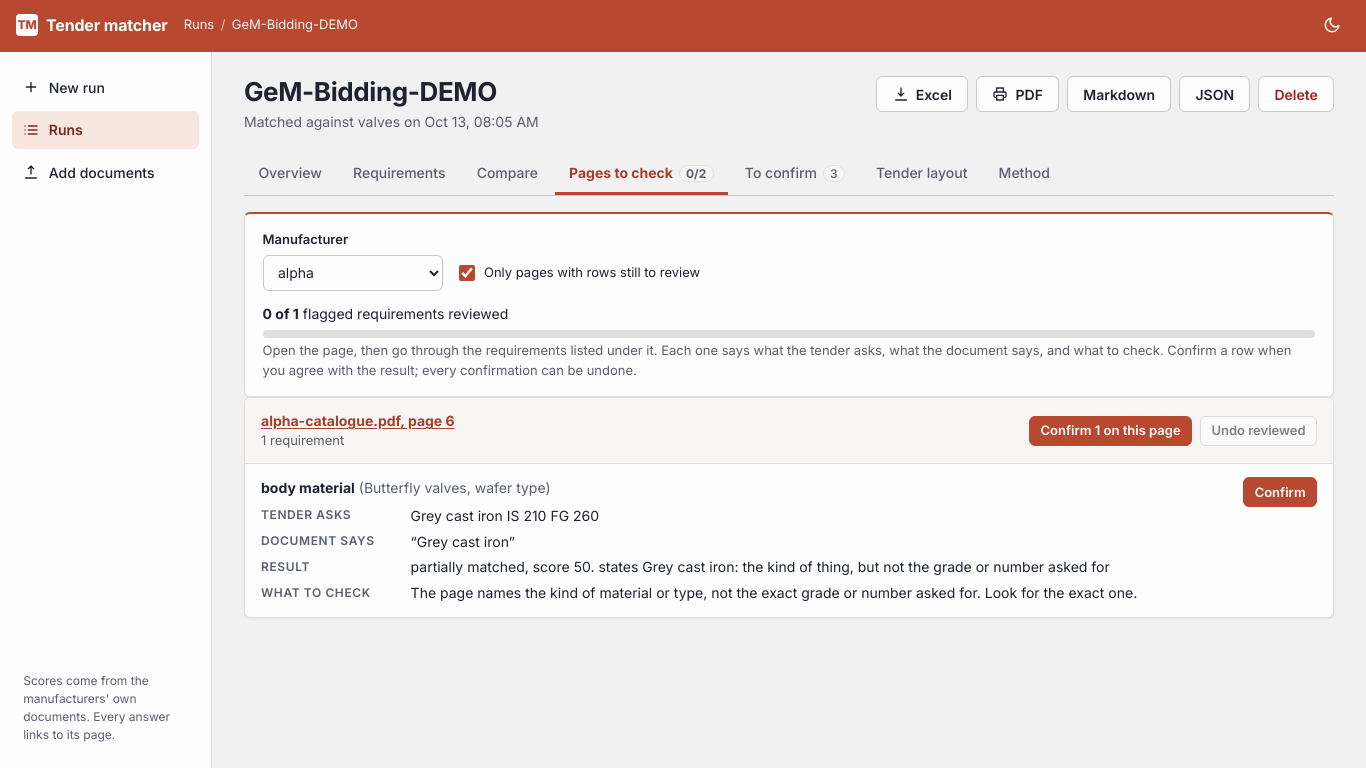
the report › lets a mistaken confirmation be undone: from the message, from the page, and per row
Click the button "Confirm 1 on this page": [1111, 430] box x1=1029 y1=416 x2=1192 y2=446
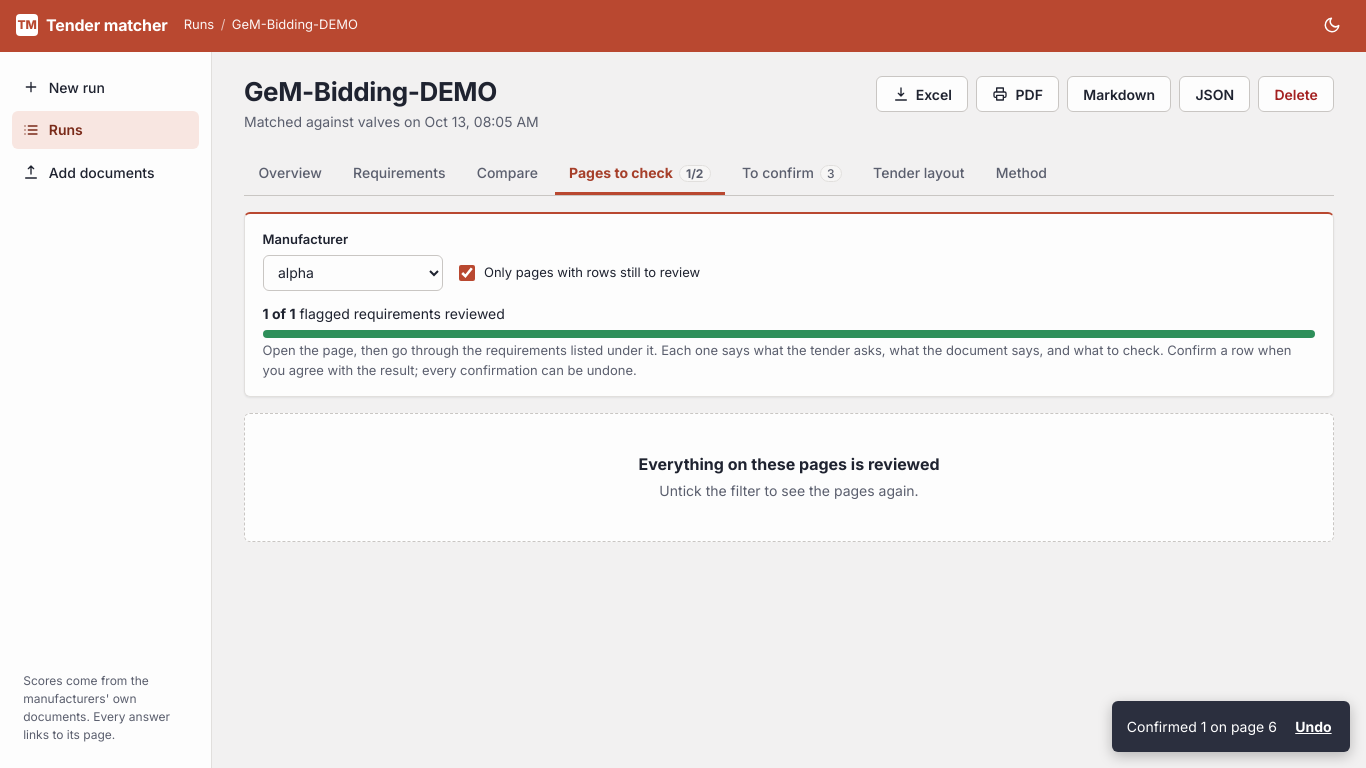
Check: the text "Confirmed 1 on page 6 Undo" is shown, box x1=1112 y1=701 x2=1350 y2=752
Click the button "Undo": [1313, 726] box x1=1291 y1=710 x2=1336 y2=742
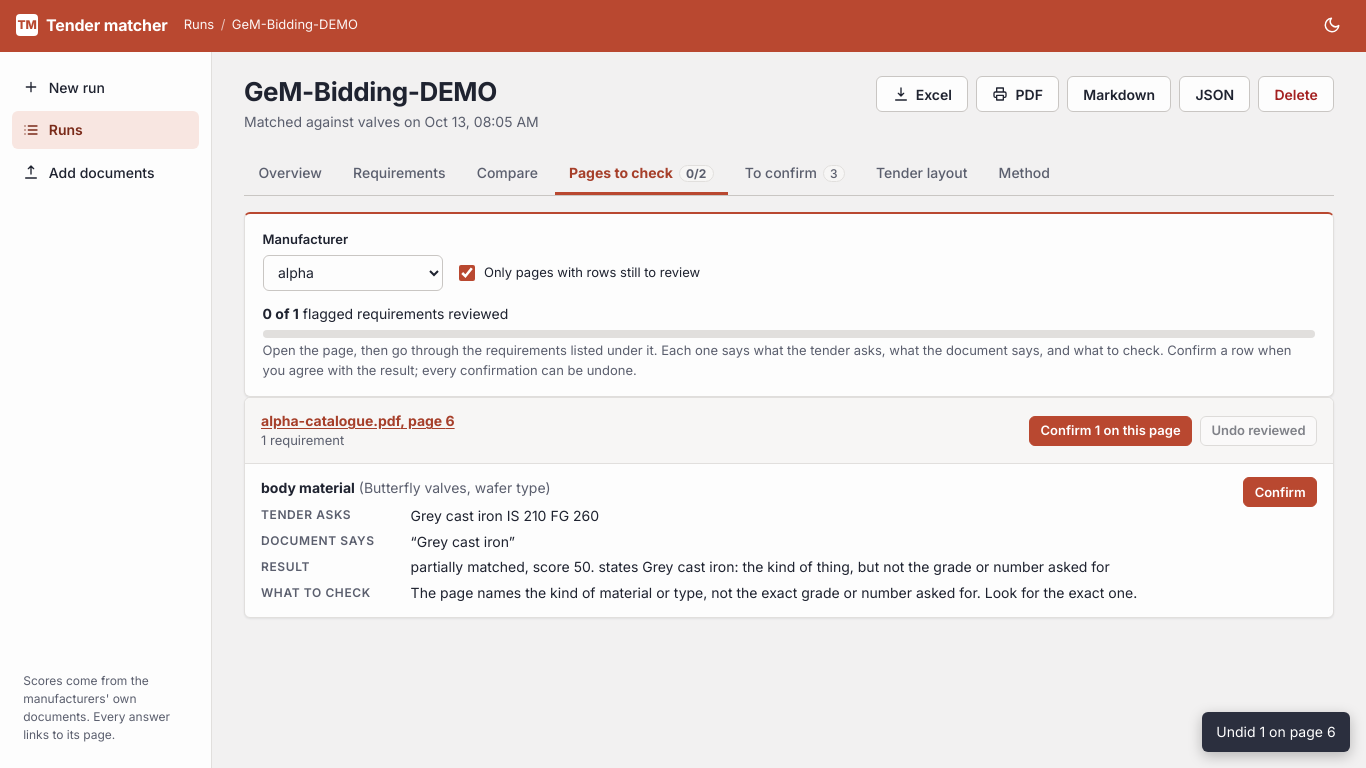
Check: the text "0 of 1" is shown, box x1=263 y1=305 x2=299 y2=322
Click the button "Confirm": [1280, 492] box x1=1243 y1=477 x2=1317 y2=507
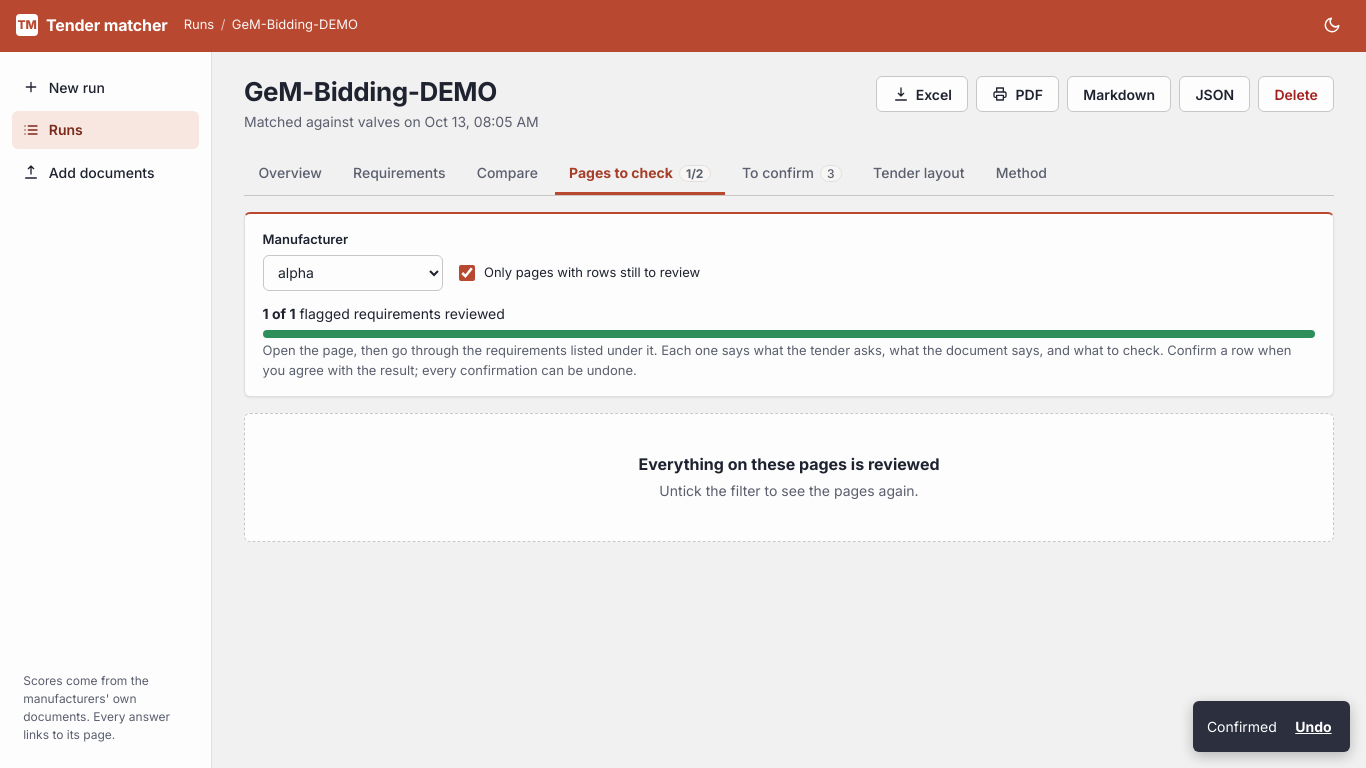
Check: the text "1 of 1" is shown, box x1=263 y1=305 x2=296 y2=322
Click the checkbox labelled "Only pages with rows still to review": [467, 273] box x1=459 y1=265 x2=475 y2=281
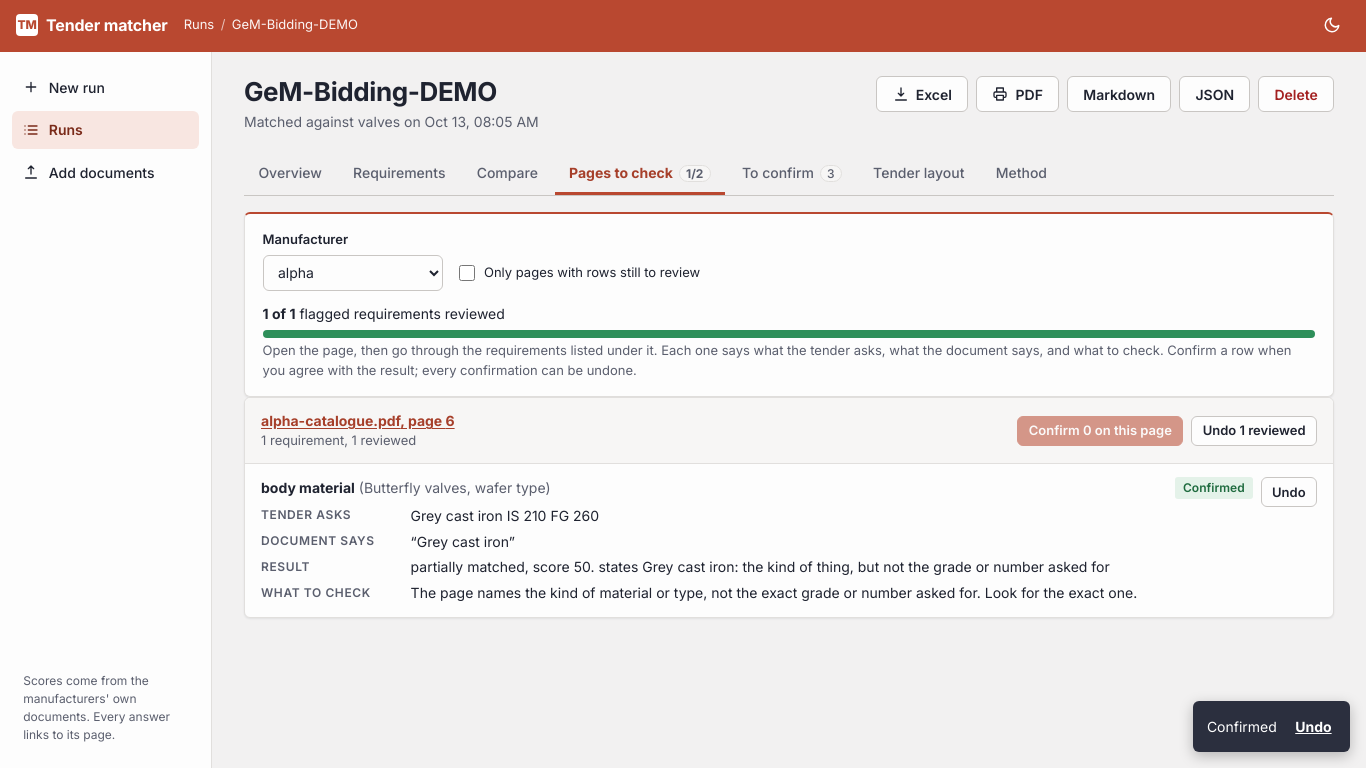
Click the button "Undo 1 reviewed": [1254, 430] box x1=1191 y1=416 x2=1317 y2=446
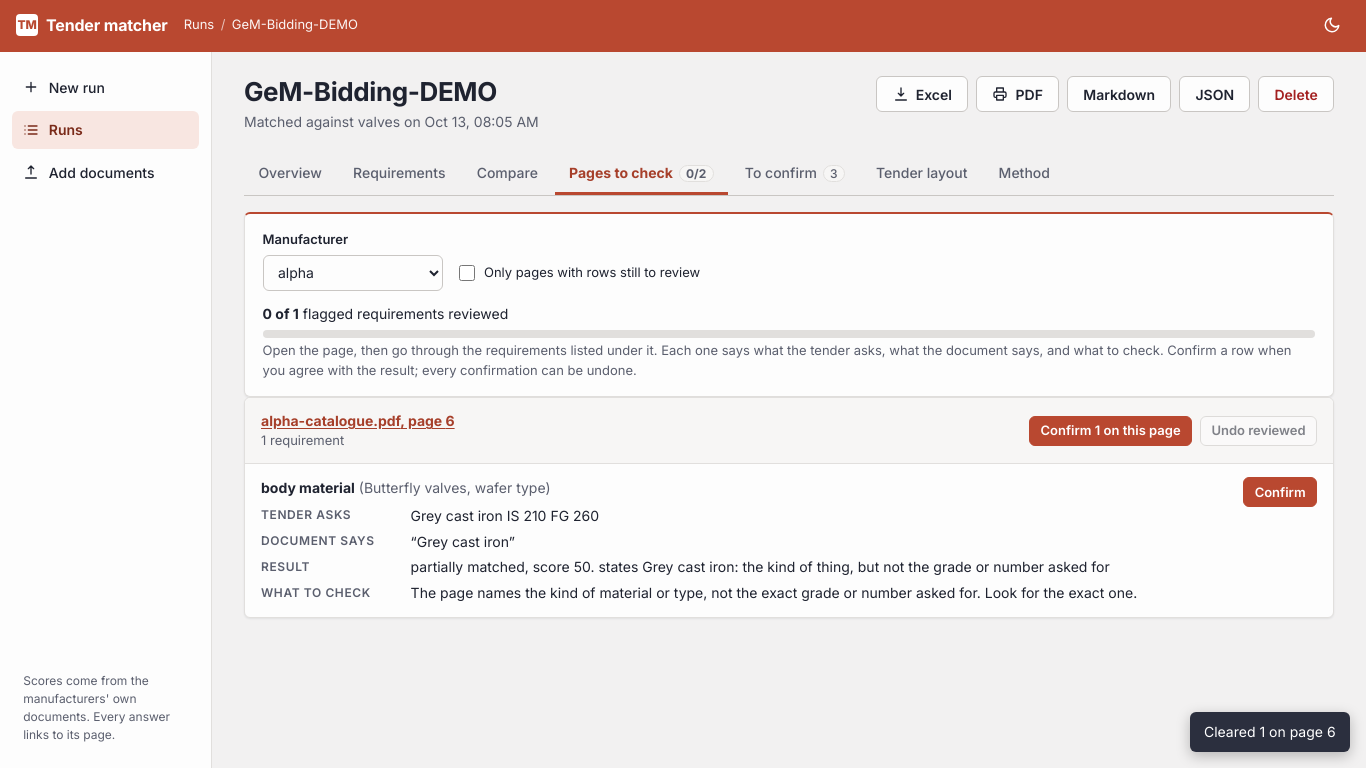
Check: the text "0 of 1" is shown, box x1=263 y1=305 x2=299 y2=322
